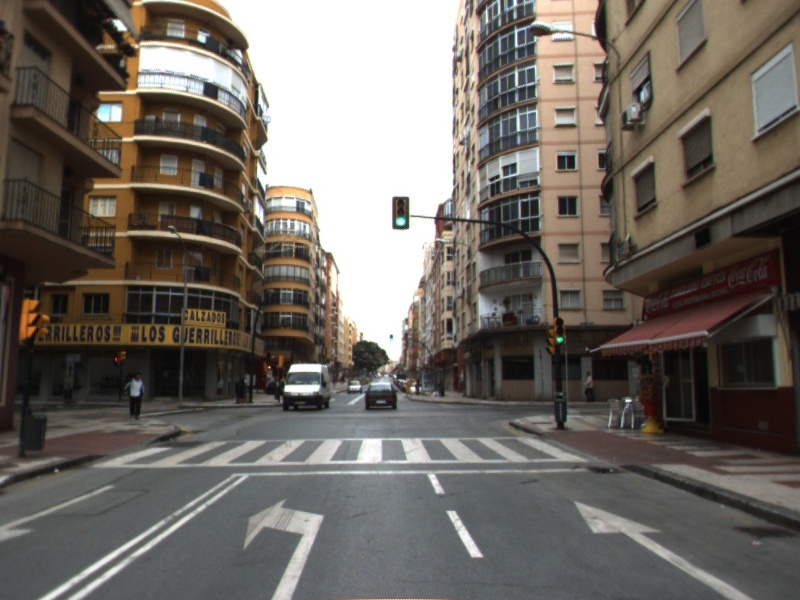LEFT: (242, 497, 326, 600)
STRAIGHT: (572, 499, 759, 600)
